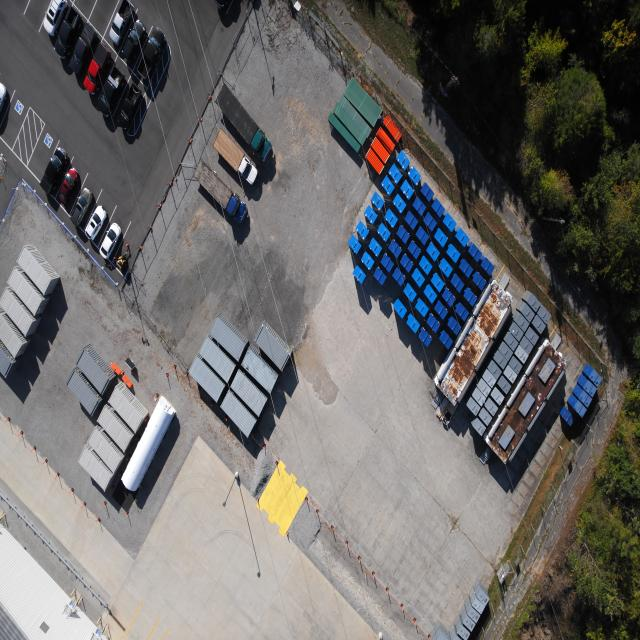Area of Interest: (366, 1, 640, 361), (504, 378, 640, 640)
